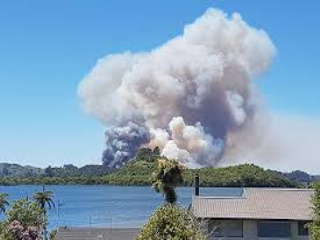smoke: (71, 10, 280, 175)
